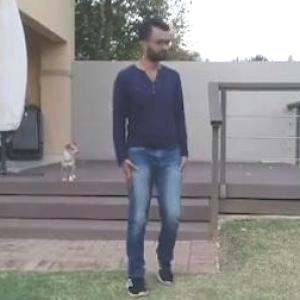follow: (108, 0, 216, 266)
